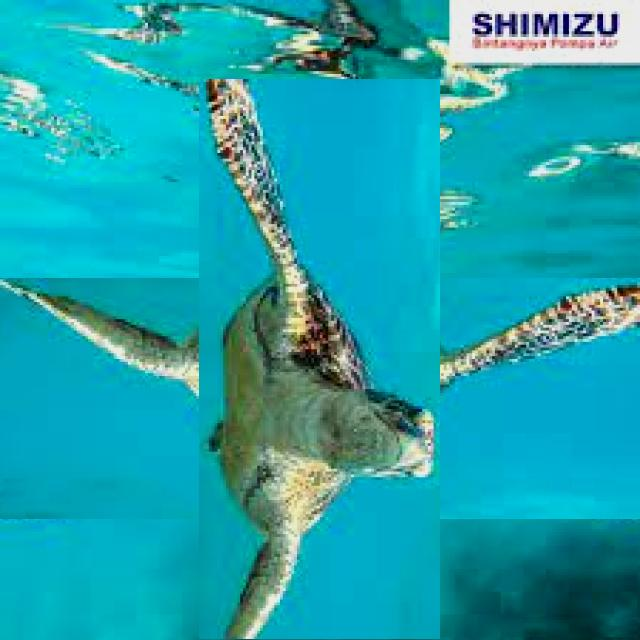Sea turtle: (100, 178, 540, 619)
